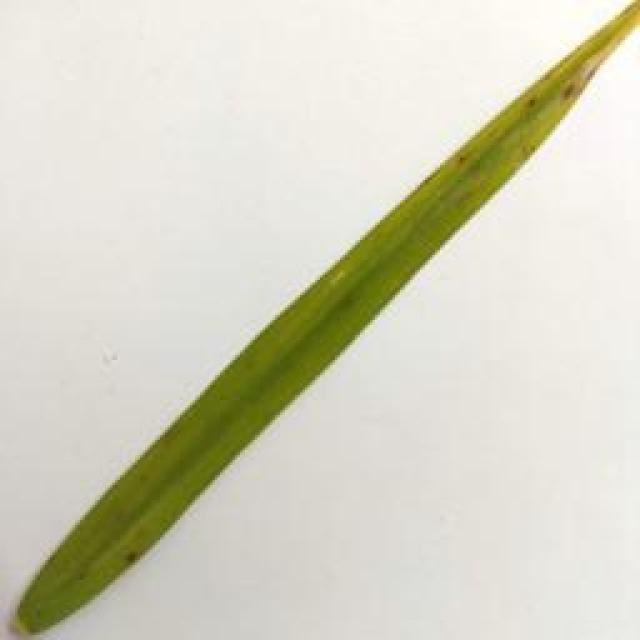Brown_Spot: (124, 540, 141, 569), (525, 99, 549, 115), (564, 76, 576, 106), (453, 153, 478, 156)
